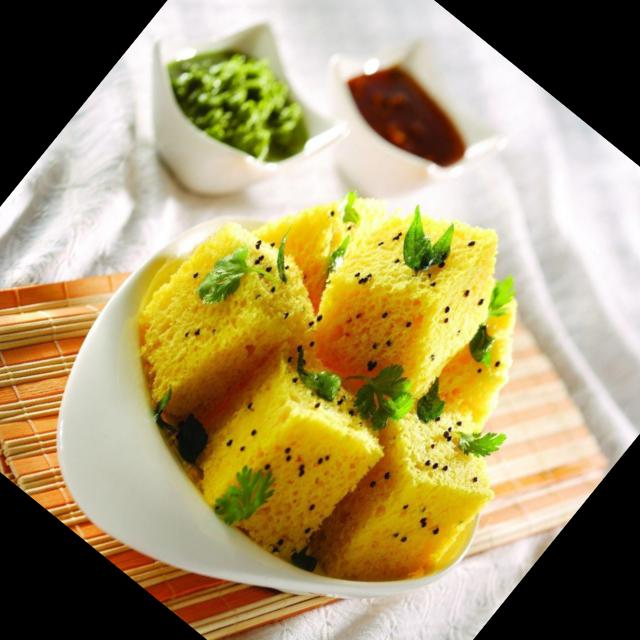dhokla: (100, 100, 622, 615)
